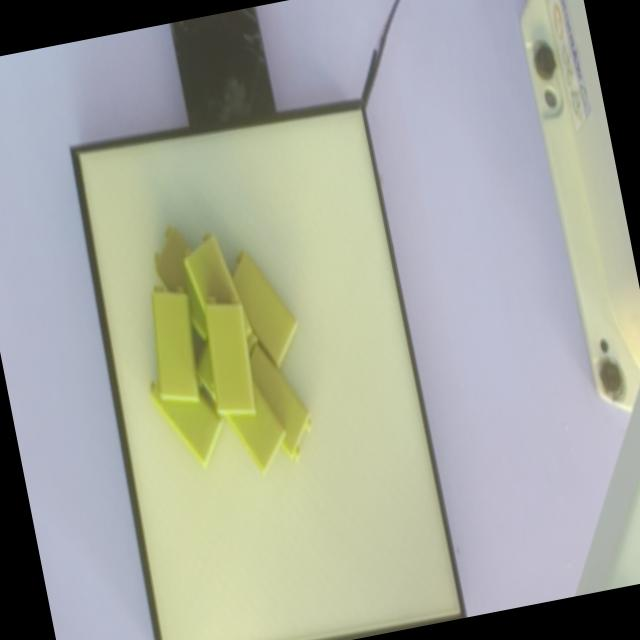bateria: (204, 295, 257, 415), (151, 286, 200, 402)
mesa: (69, 97, 468, 640)
